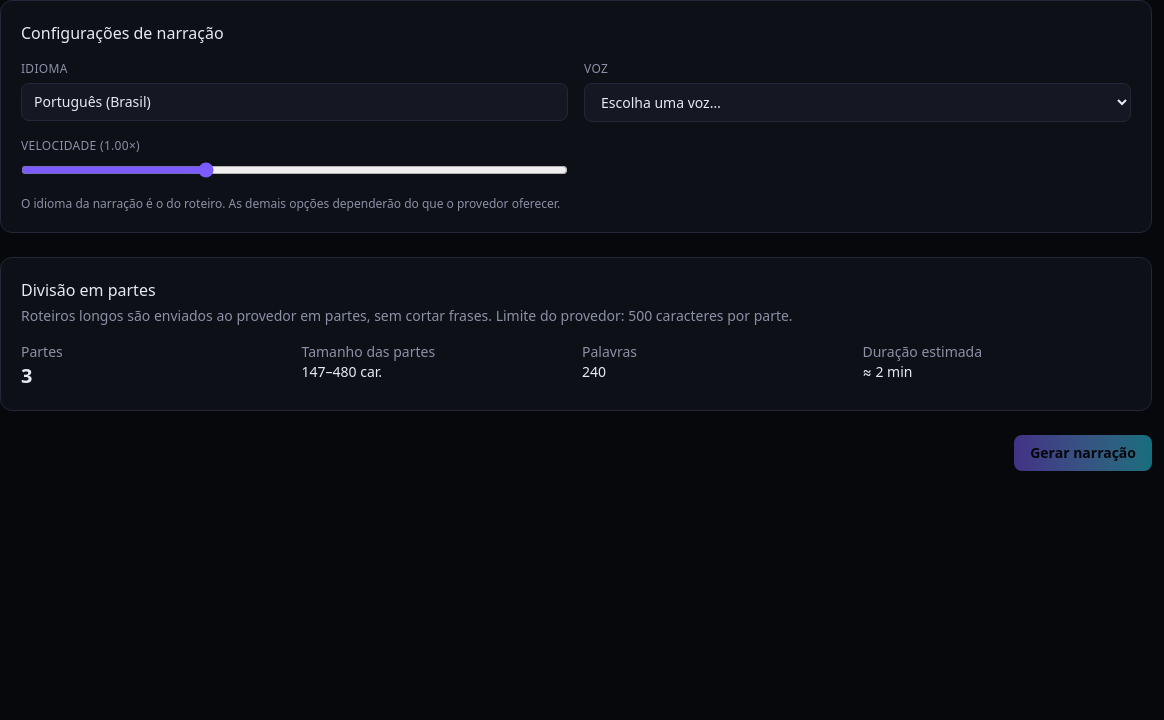
Test: NarrationPanel com provedor › avisa quando não há orçamento definido ou quando a estimativa não cabe
Select "Ana" in the dropdown labelled "Voz" at coordinates (858, 102), box [584,83,1131,122]
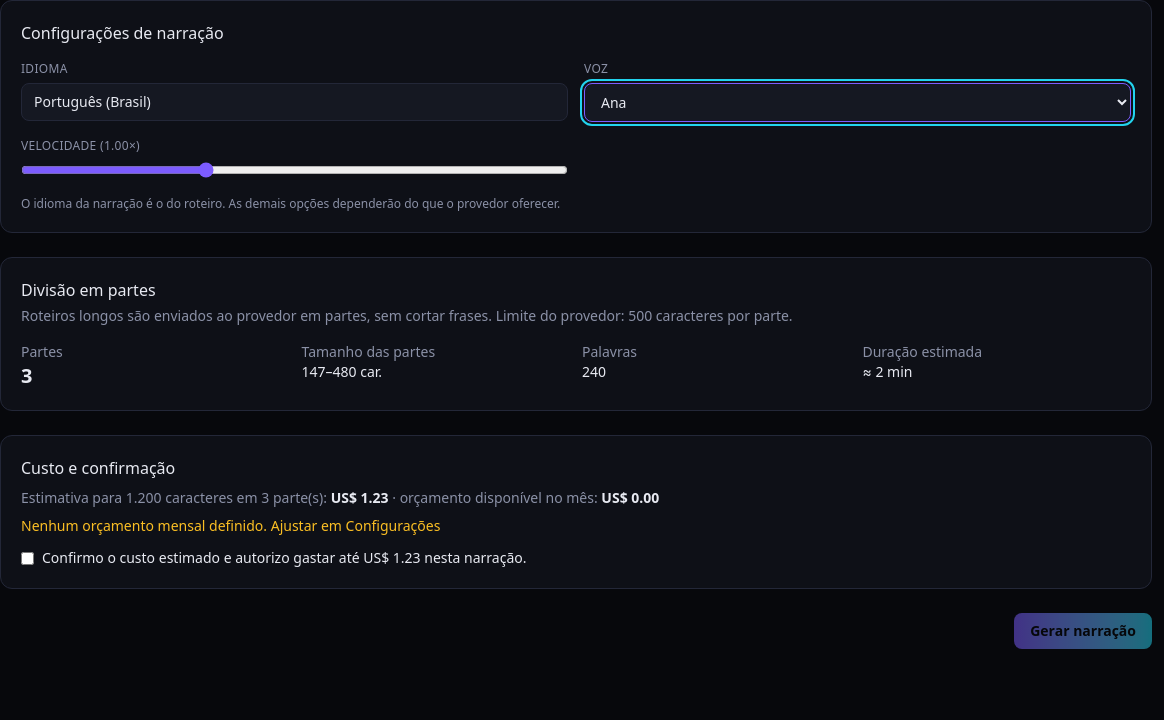
Expected: the message shows "Nenhum orçamento mensal definido", [21,516,267,535]
